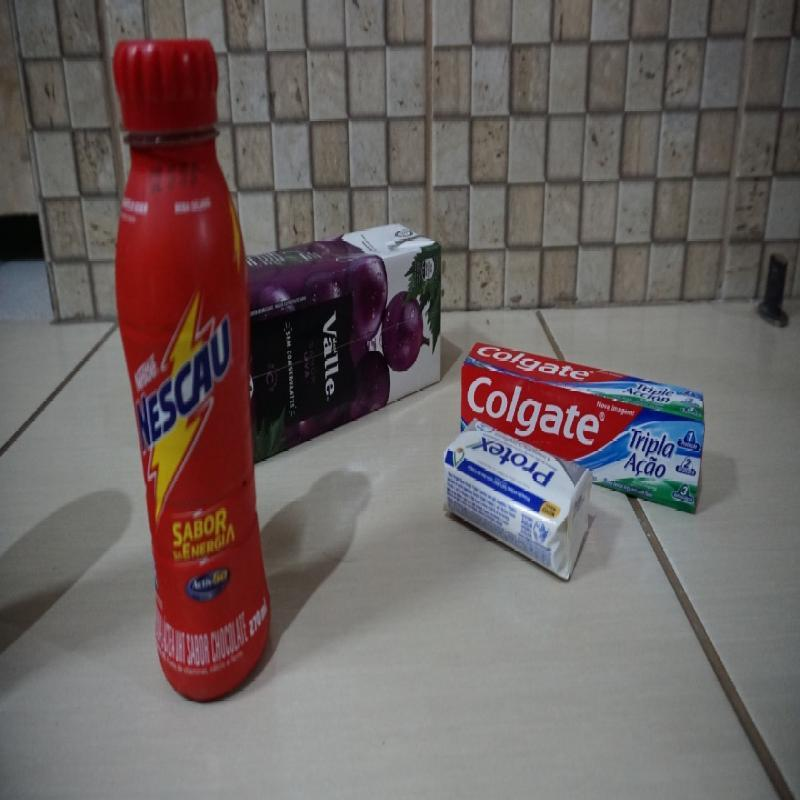Chocolate Milk: (109, 34, 274, 704)
Soap: (443, 413, 596, 582)
Toothpaste: (461, 340, 706, 520)
